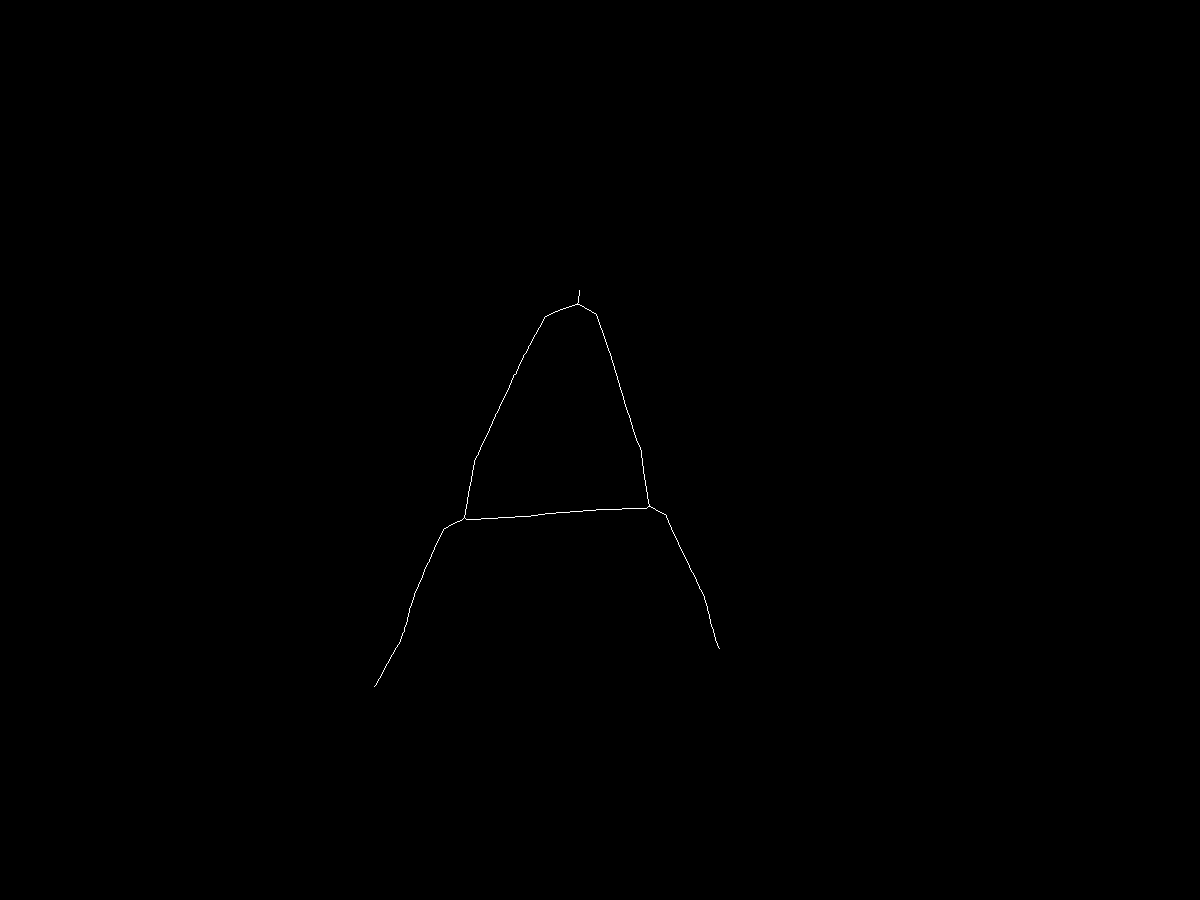dian1: (570, 299, 585, 314)
dian2: (458, 507, 471, 520)
dian3: (368, 678, 386, 696)
dian4: (661, 506, 679, 524)
dian5: (705, 640, 726, 661)
